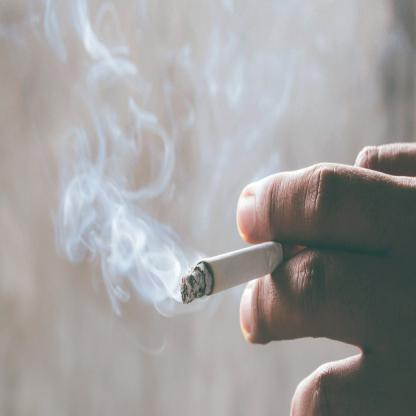cigarette: (180, 235, 290, 306)
smoke: (56, 161, 178, 308), (70, 5, 132, 158)
